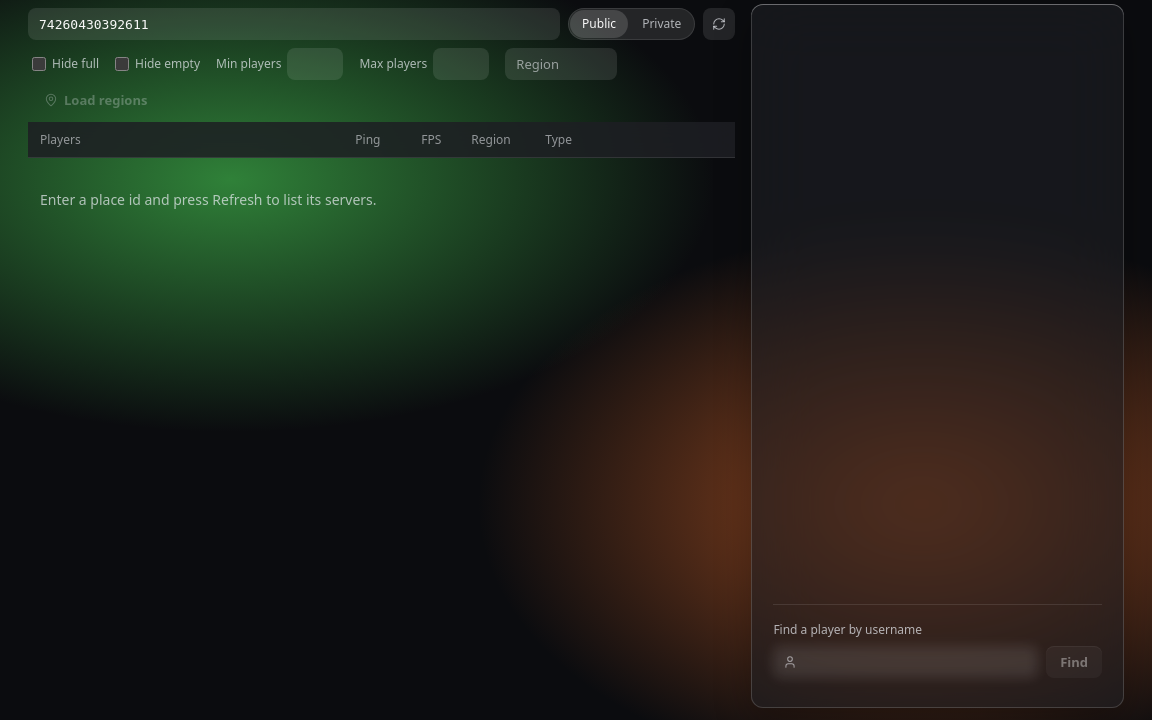
Scenario: a region filter typed before loading regions still lets Load regions look rows up
The width and height of the screenshot is (1152, 720).
Later steps or results of the test are not shown.
Step 1. Click the button named "Refresh" → (719, 24), box top-left (703, 8), bottom-right (735, 40)
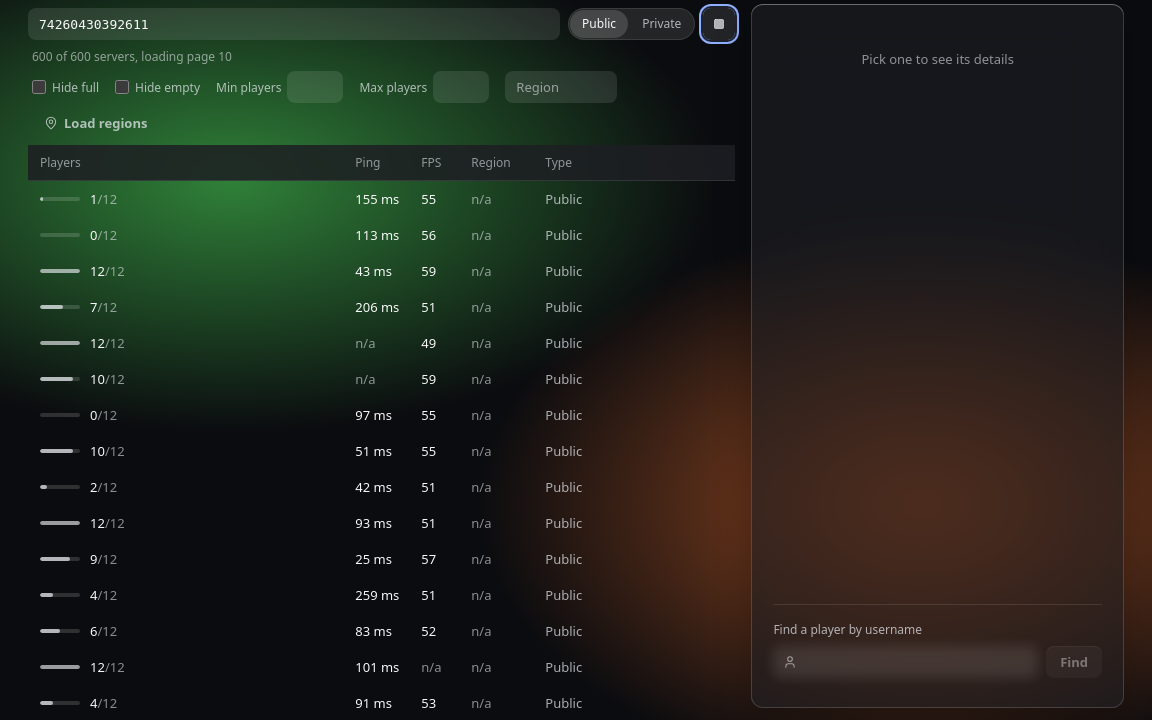
Step 2. Click the button named "Stop" → (719, 24), box top-left (703, 8), bottom-right (735, 40)
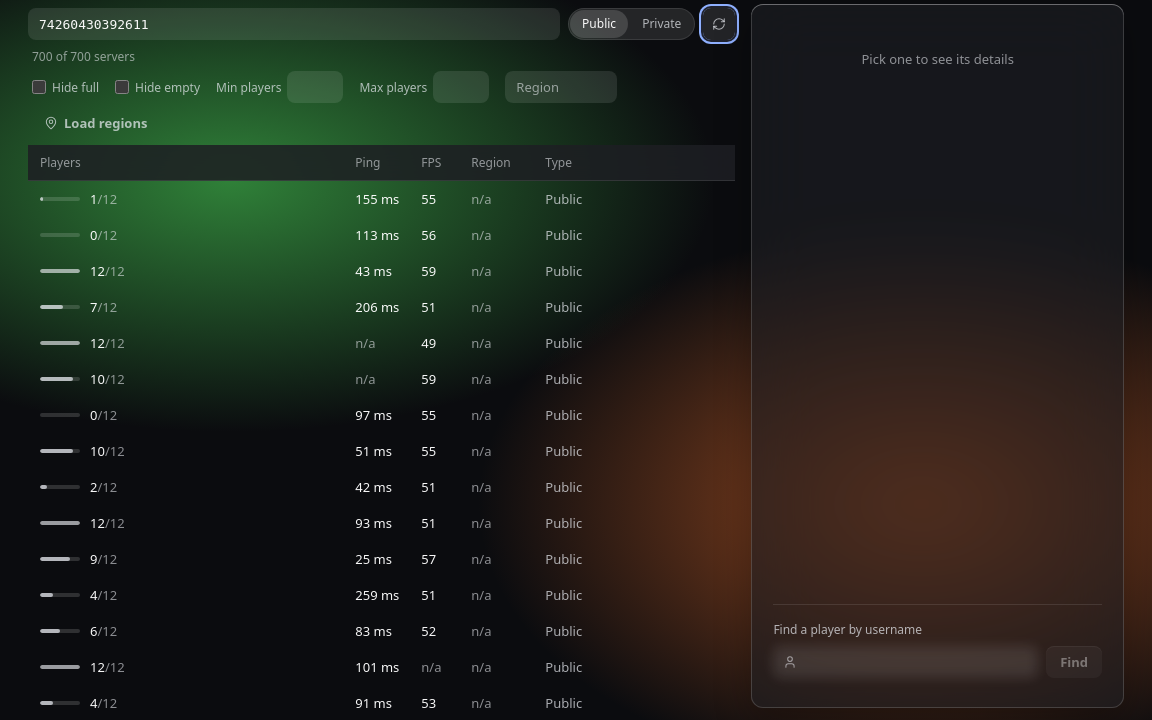
Step 3. Type "Frankfurt" into the field labelled "Region" → (561, 87), box top-left (505, 71), bottom-right (617, 103)
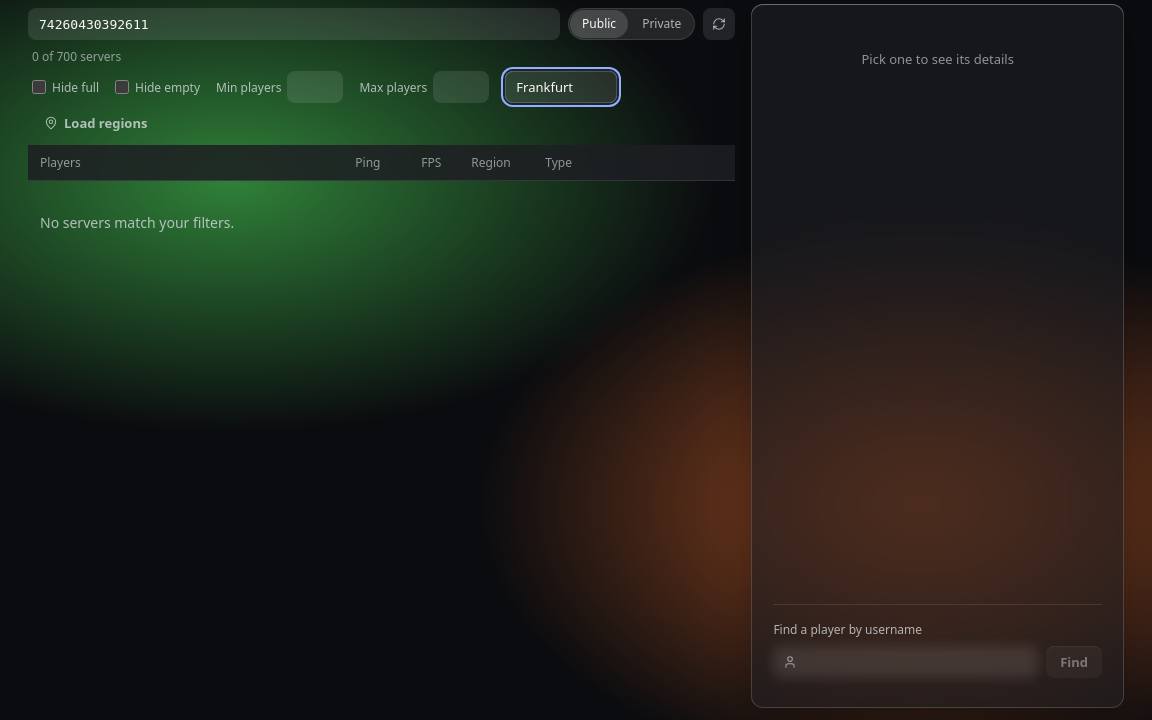
Expected: the button "Load regions" is enabled, top-left (32, 109), bottom-right (159, 137)
